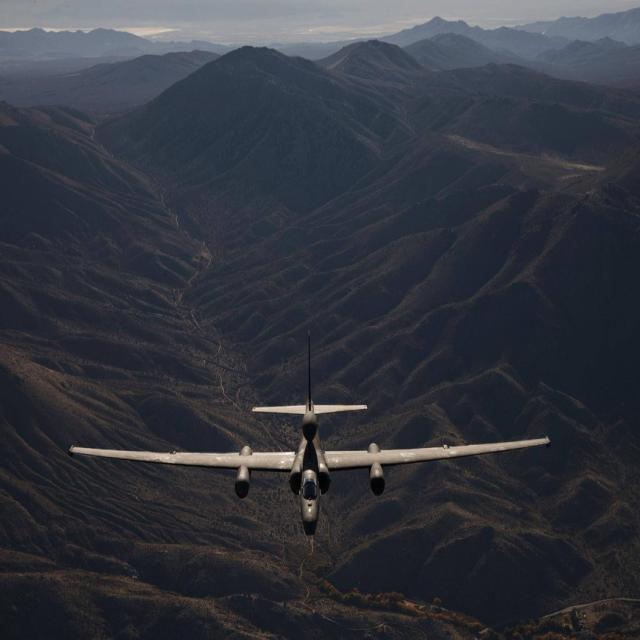MIL_Plane: (68, 328, 552, 536)
